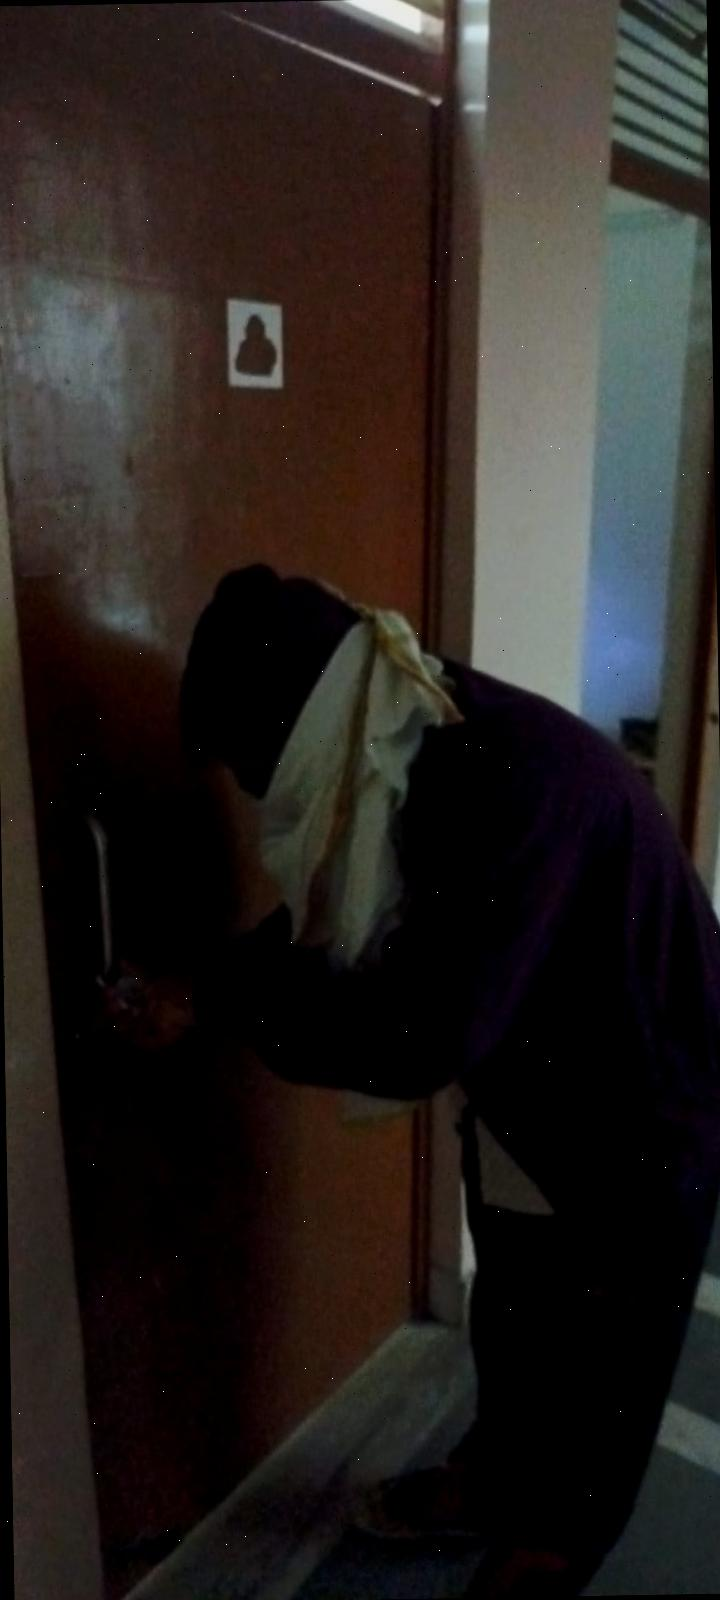suspicion: (25, 498, 720, 1600), (80, 533, 720, 1600)
